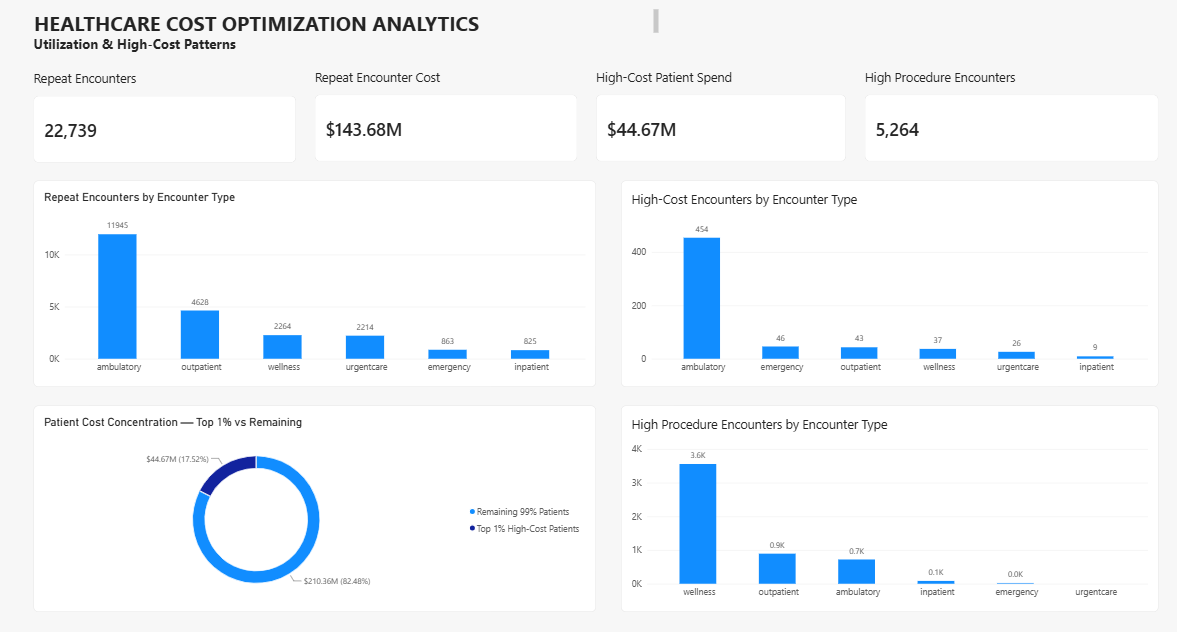

What the dashboard file says about the page in this screenshot:
{"tool":"powerbi","page":{"name":"3. Utilization & Repeat Encounters","canvas":[1920,1080],"ordinal":2},"visuals":[{"type":"textbox","box":[60,25,1000,40],"z":0},{"type":"textbox","box":[60,65,800,30],"z":1000},{"type":"cardVisual","title":"Repeat Encounters","fields":{"Data":["healthcare_analytical_dataset.Repeat Encounters Display"]},"box":[60,122,420,150],"z":2000},{"type":"cardVisual","title":"High-Cost Patient Spend","fields":{"Data":["healthcare_analytical_dataset.High-Cost Patient Spend"]},"box":[960,120,400,150],"z":3000},{"type":"cardVisual","title":"Repeat Encounter Cost","fields":{"Data":["healthcare_analytical_dataset.Repeat Encounter Cost"]},"box":[510,120,420,150],"z":4000},{"type":"cardVisual","title":"High Procedure Encounters","fields":{"Data":["healthcare_analytical_dataset.High Procedure Encounters KPI"]},"box":[1390,120,470,150],"z":5000},{"type":"clusteredColumnChart","title":"Repeat Encounters by Encounter Type","fields":{"Category":["healthcare_analytical_dataset.ENCOUNTERCLASS"],"Y":["healthcare_analytical_dataset.Repeat Encounters"]},"box":[60,300,900,330],"z":6000},{"type":"clusteredColumnChart","title":"High-Cost Encounters by Encounter Type","fields":{"Category":["healthcare_analytical_dataset.ENCOUNTERCLASS"],"Y":["healthcare_analytical_dataset.High Cost Encounters"]},"box":[1000,300,860,330],"z":7000},{"type":"donutChart","title":"Patient Cost Concentration — Top 1% vs Remaining","fields":{"Category":["Patient Cost Group.Group"],"Y":["healthcare_analytical_dataset.Patient Cost Group Spend"]},"box":[60,660,900,330],"z":8000},{"type":"clusteredColumnChart","title":"High Procedure Encounters by Encounter Type","fields":{"Category":["healthcare_analytical_dataset.ENCOUNTERCLASS"],"Y":["healthcare_analytical_dataset.High Procedure Encounters by Type"]},"box":[1000,660,860,330],"z":9000}]}

Visuals, with their boxes on the page's 1920x1080 design canvas (x1, y1, x2, y2). These are canvas units, not pixel positions in the 1177x632 screenshot, which may show the page scaled, cropped or inside an application window:
textbox: [60, 25, 1060, 65]
textbox: [60, 65, 860, 95]
"Repeat Encounters" cardVisual: [60, 122, 480, 272]
"High-Cost Patient Spend" cardVisual: [960, 120, 1360, 270]
"Repeat Encounter Cost" cardVisual: [510, 120, 930, 270]
"High Procedure Encounters" cardVisual: [1390, 120, 1860, 270]
"Repeat Encounters by Encounter Type" clusteredColumnChart: [60, 300, 960, 630]
"High-Cost Encounters by Encounter Type" clusteredColumnChart: [1000, 300, 1860, 630]
"Patient Cost Concentration — Top 1% vs Remaining" donutChart: [60, 660, 960, 990]
"High Procedure Encounters by Encounter Type" clusteredColumnChart: [1000, 660, 1860, 990]
